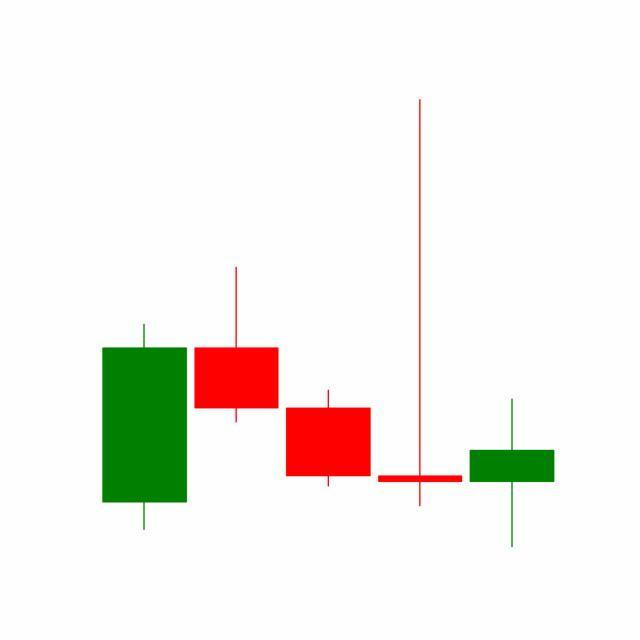Spinning Top: (374, 96, 468, 512)
